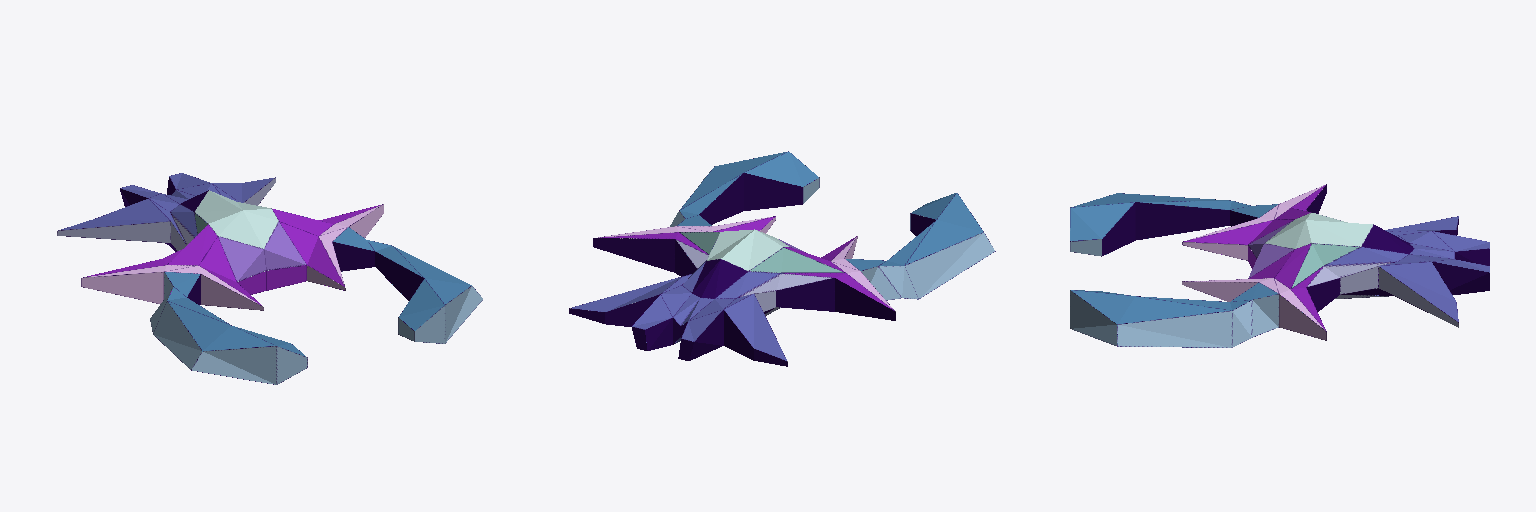
3 views of the same model, side by side, from view 1: azimuth 30°, elevation 25°; view 2: azimuth 150°, elevation 25°; view 3: azimuth 270°, elevation 25° (orthographic).
Parts seen in each view (by area): view 1: Cube; view 2: Cube; view 3: Cube.
Boxes of the visible parts, <box> form: Cube: <box>57,173,482,384</box>; Cube: <box>569,151,995,366</box>; Cube: <box>1070,184,1489,347</box>.
Bounding box in the file's own units: 9.9 × 2.25 × 11.9.
Materials: 1 (1 with a texture image).